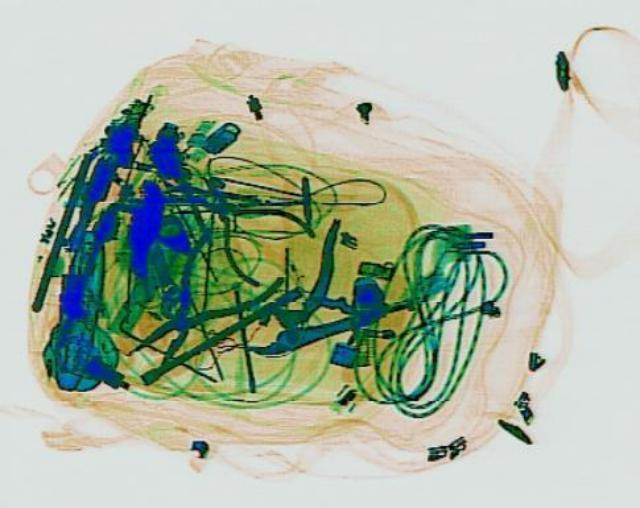Pliers: (209, 213, 439, 384), (94, 225, 292, 381), (153, 157, 327, 287)
